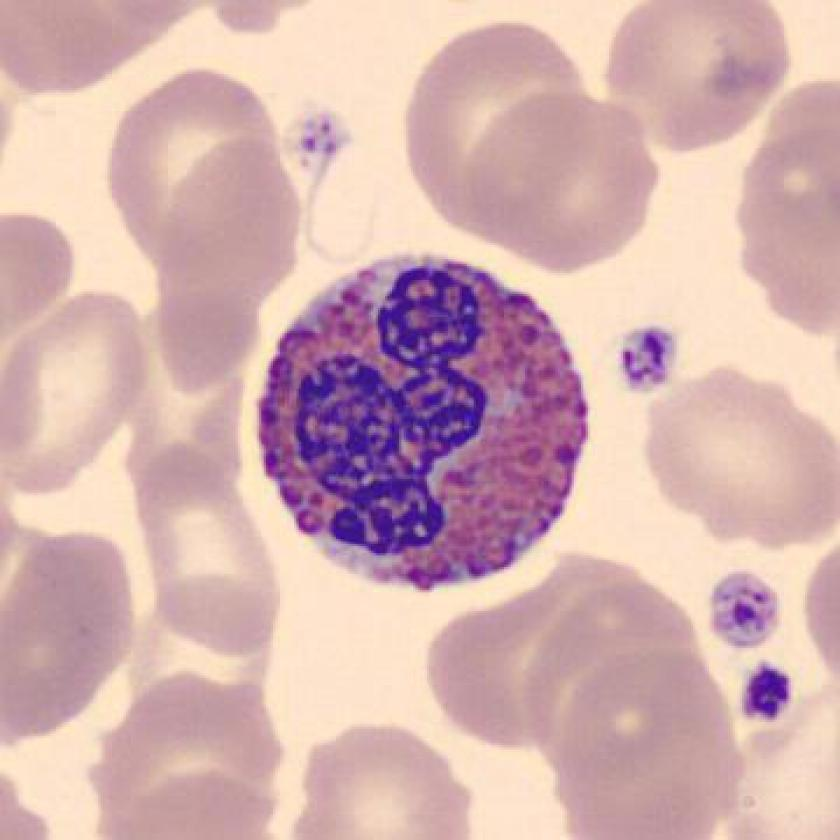eosinophil: (253, 242, 598, 607)
